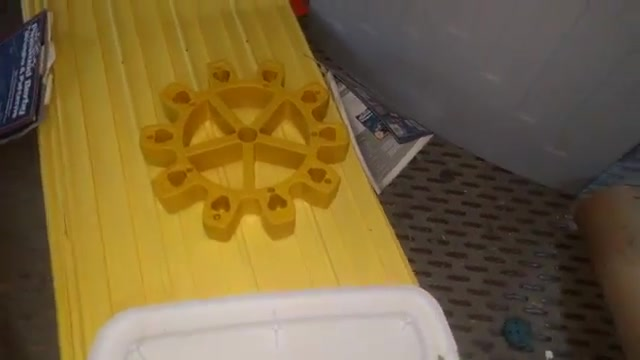gear: (139, 54, 360, 250)
